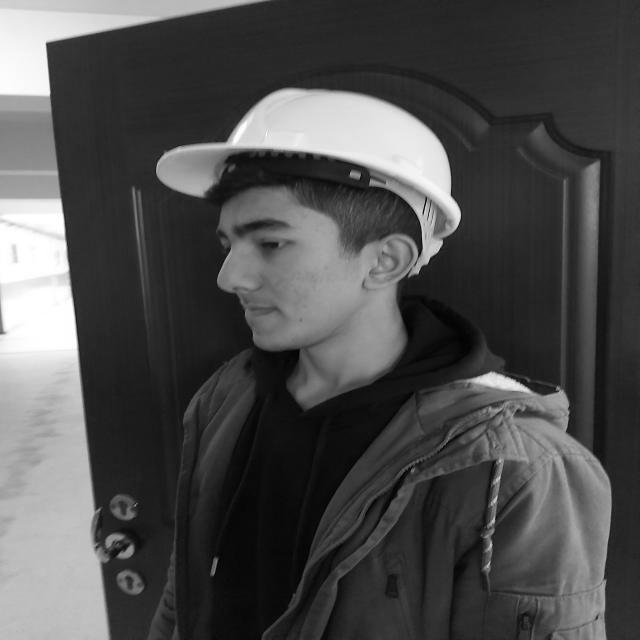construction helmet: (156, 89, 463, 271)
